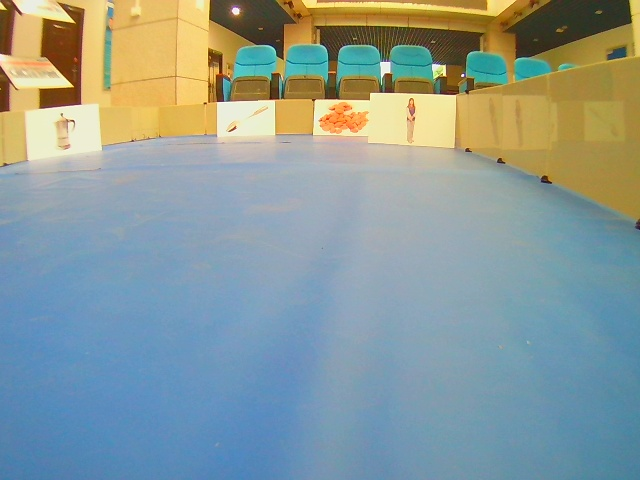dish: (24, 103, 105, 159), (215, 101, 277, 139)
food: (311, 99, 369, 137)
person: (370, 92, 456, 151)
